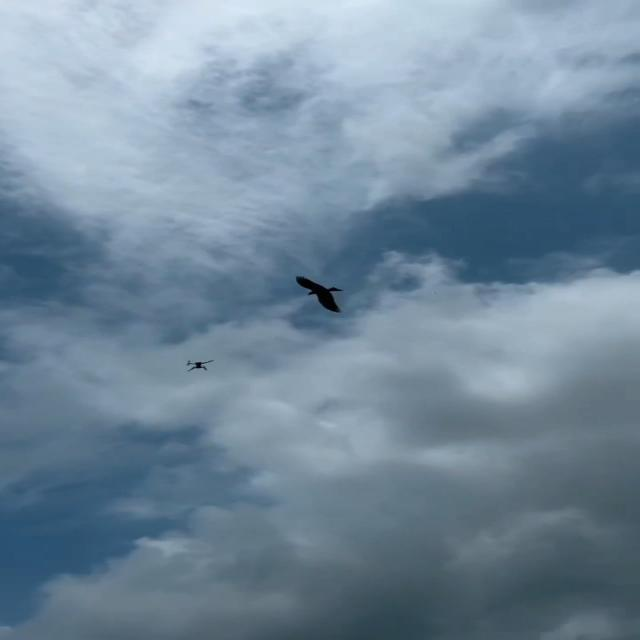bird: (294, 275, 343, 313)
drone: (184, 359, 213, 372)
